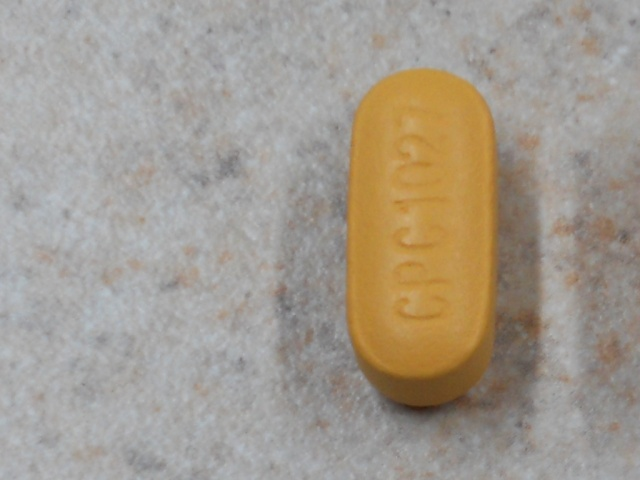0: (392, 158, 464, 190)
1: (390, 190, 456, 216)
2: (389, 130, 456, 162)
7: (391, 98, 454, 130)
C: (389, 288, 453, 326), (389, 216, 453, 254)
P: (391, 258, 453, 290)
